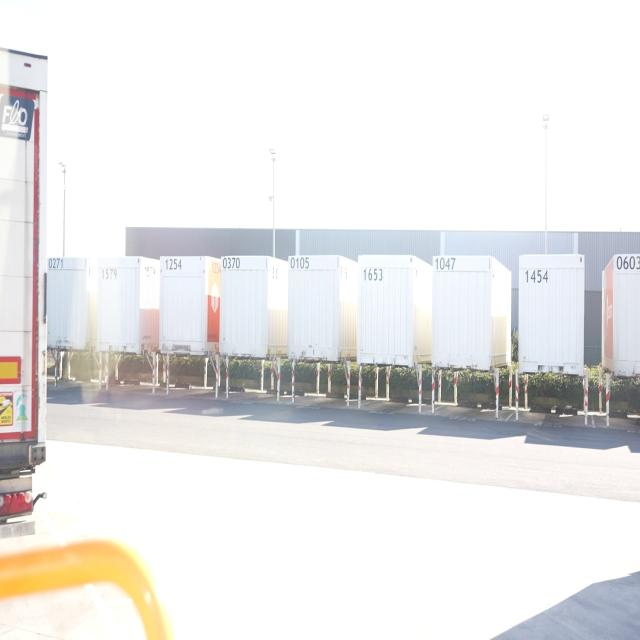Code: (432, 253, 460, 276), (522, 267, 552, 288), (614, 252, 640, 276), (360, 264, 387, 285), (288, 251, 311, 275), (96, 261, 120, 283), (162, 254, 186, 276), (219, 251, 242, 272), (47, 256, 69, 276)
